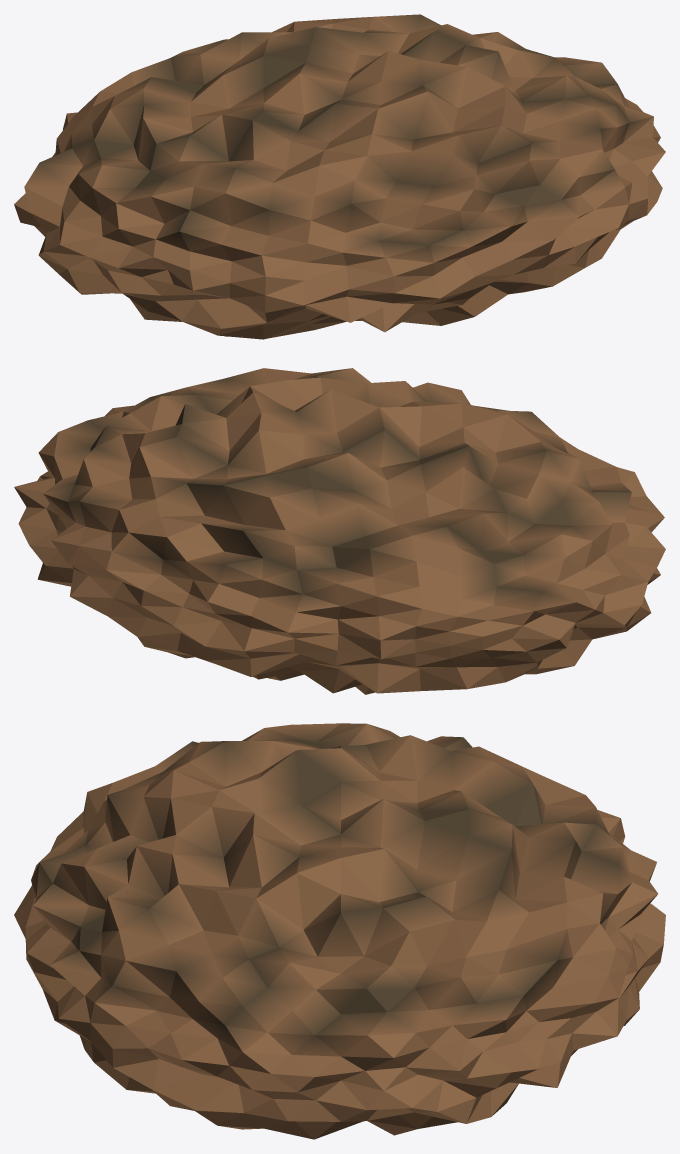
File: cooked_meat.glb
3 renders of one model, top to bottom at view 1: azimuth 30°, elevation 25°; view 2: azimuth 150°, elevation 25°; view 3: azimuth 270°, elevation 25°, orthographic. The views are drawn at different scales.
Visible parts, largest first — view 1: world; view 2: world; view 3: world.
Boxes of the visible parts, x1,y1,x2,y2 form: world: (14,14,665,339); world: (14,368,665,694); world: (14,723,665,1139).
Size of the model in its own units: 0.1864 by 0.0634 by 0.1518.
